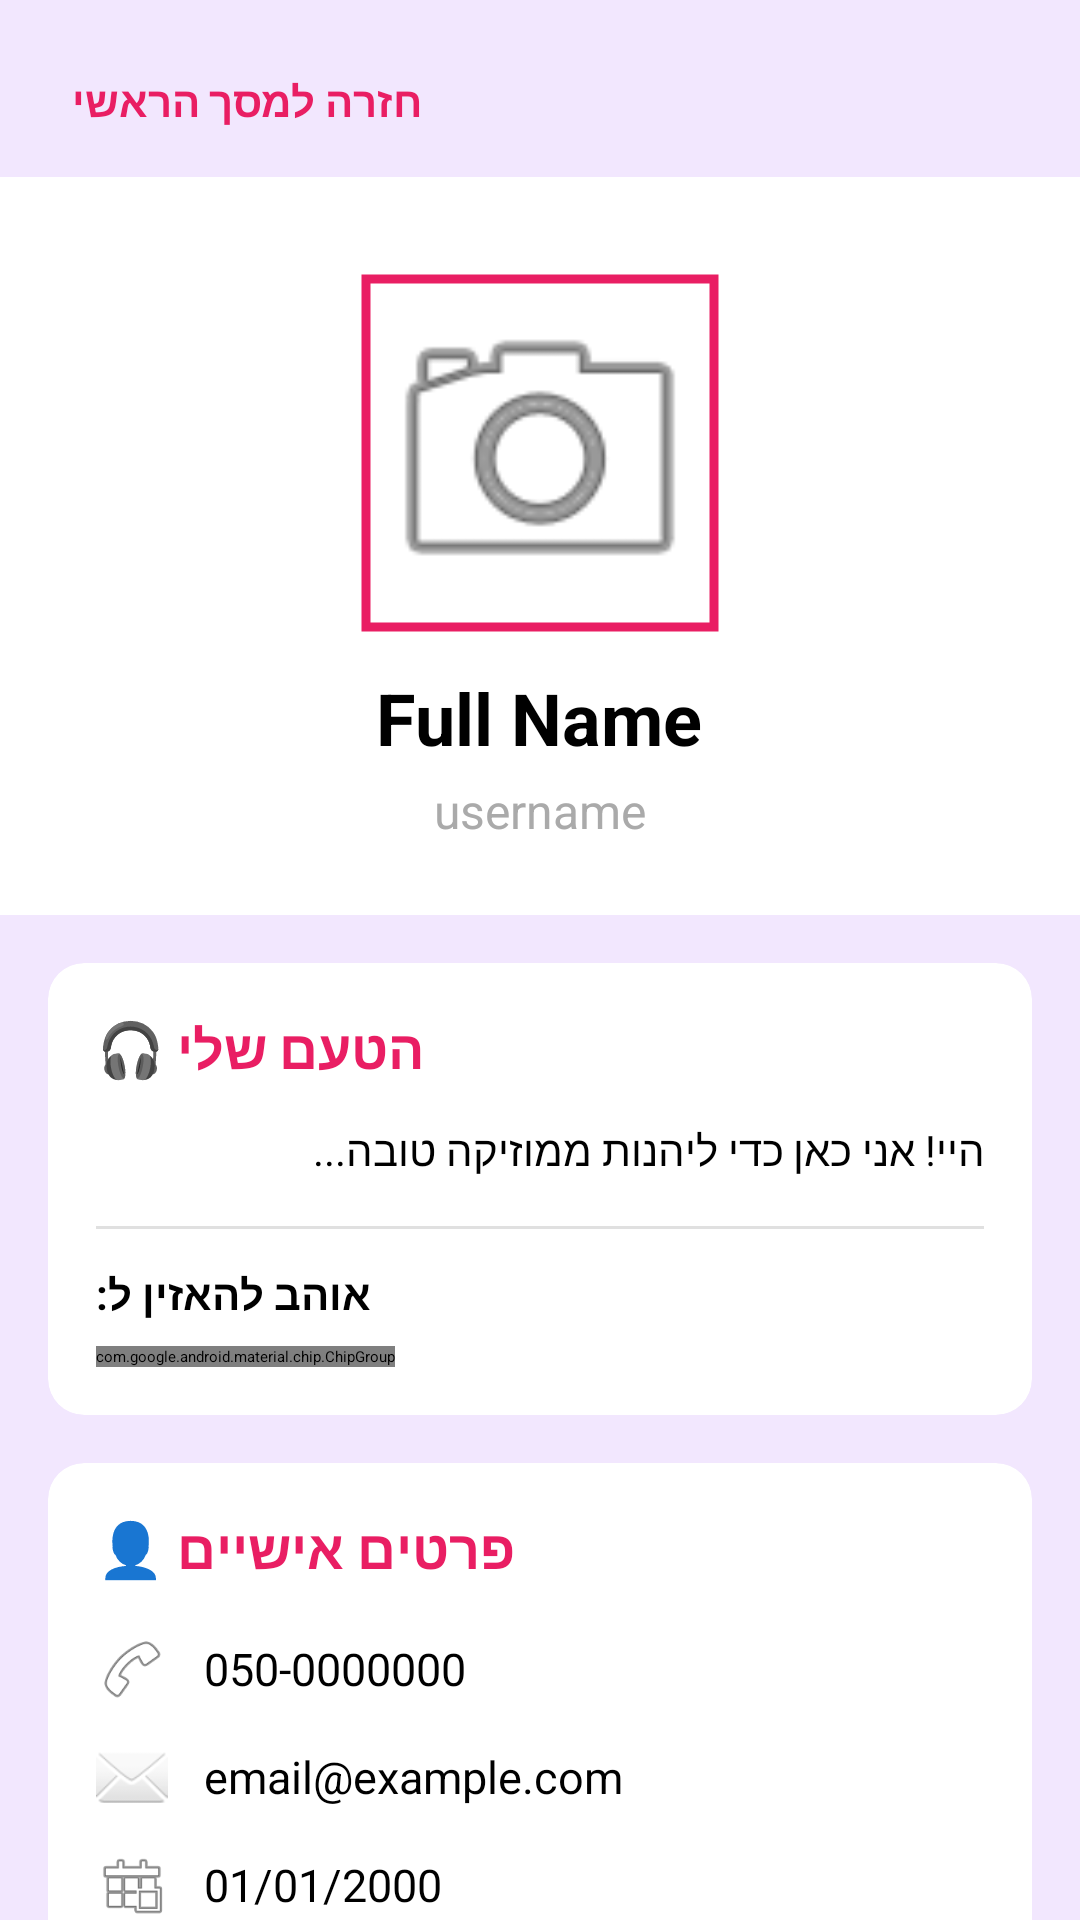

Screen size 1080x1920. Icon name, then its box in pixels as Rect(x1, y1, x2, y2):
call: Rect(104, 1641, 161, 1698)
camera: Rect(361, 274, 719, 632)
today: Rect(103, 1859, 162, 1914)
